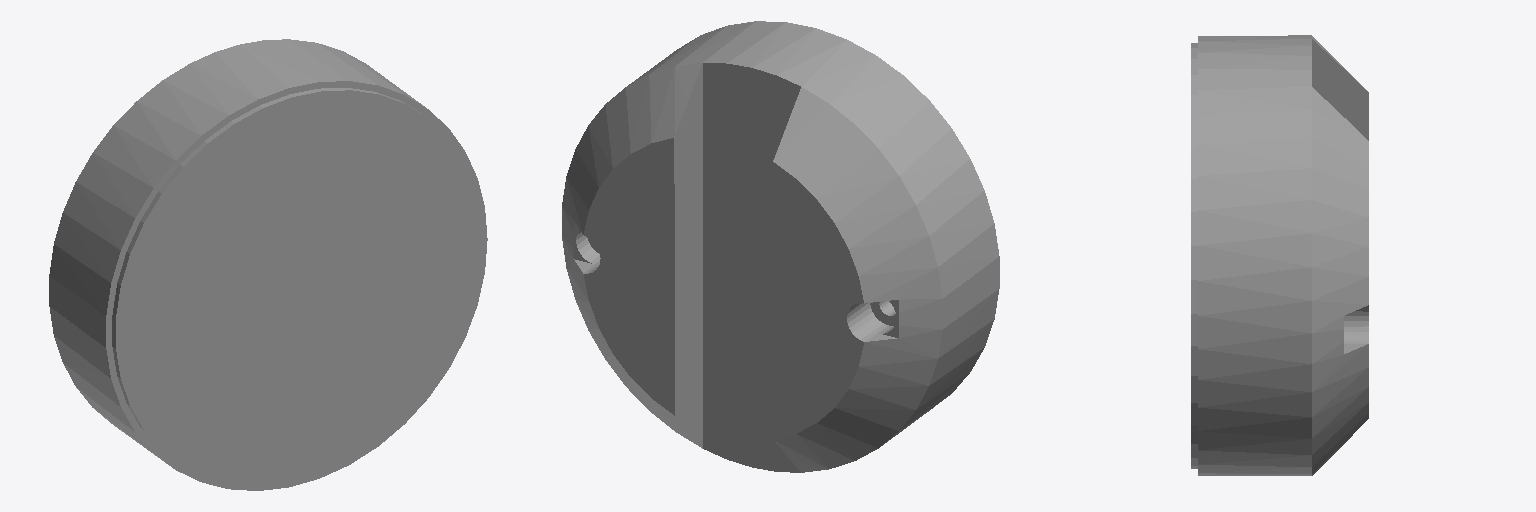
File: gripper_base.obj
3 views of the same model, side by side, from view 1: azimuth 30°, elevation 25°; view 2: azimuth 150°, elevation 25°; view 3: azimuth 270°, elevation 25° (orthographic).
Size of the model in its own units: 0.0619 by 0.062 by 0.025.